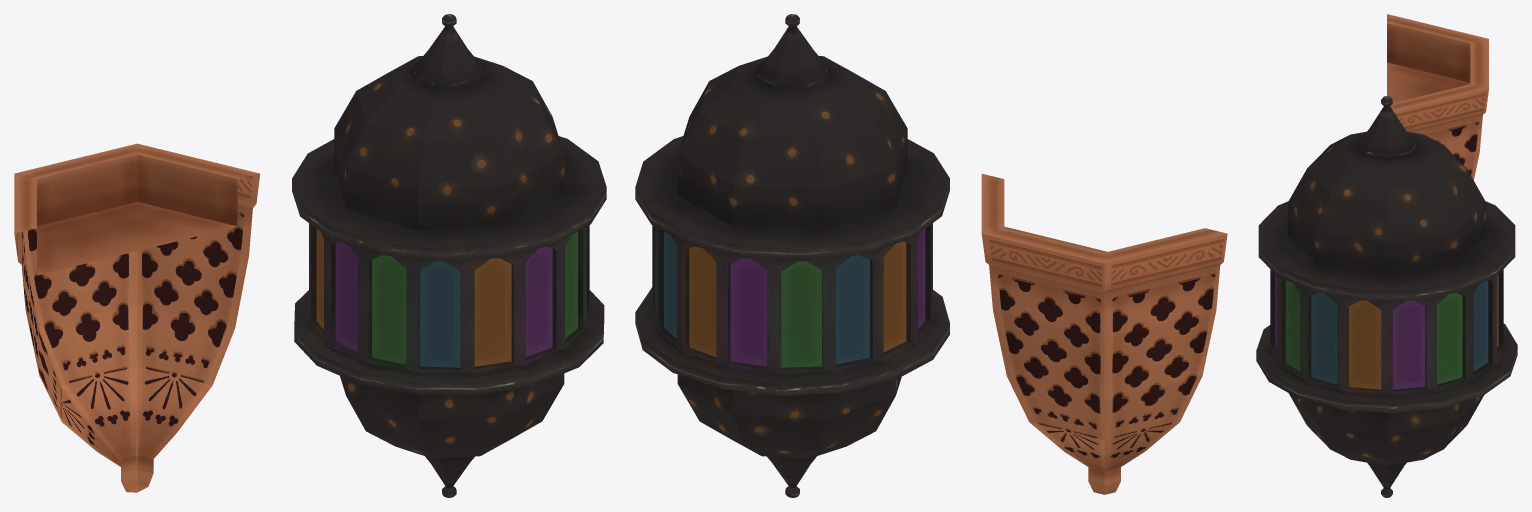
File: lamps-unlit.glb
The picture shows the model from 3 angles, left to right: view 1: azimuth 30°, elevation 25°; view 2: azimuth 150°, elevation 25°; view 3: azimuth 270°, elevation 25°; orthographic projection. The views are drawn at different scales.
Visible parts, largest first — view 1: hangingLamp_Lamp_MAT_0; view 2: hangingLamp_Lamp_MAT_0; view 3: hangingLamp_Lamp_MAT_0.
Part boxes in pixels (bbox=[...]): hangingLamp_Lamp_MAT_0: bbox=[14, 14, 606, 497]; hangingLamp_Lamp_MAT_0: bbox=[635, 14, 1227, 497]; hangingLamp_Lamp_MAT_0: bbox=[1256, 14, 1517, 497].
Bounding box in the file's own units: 0.0465 × 0.0375 × 0.0222.
Materials: 1 (1 with a texture image).
